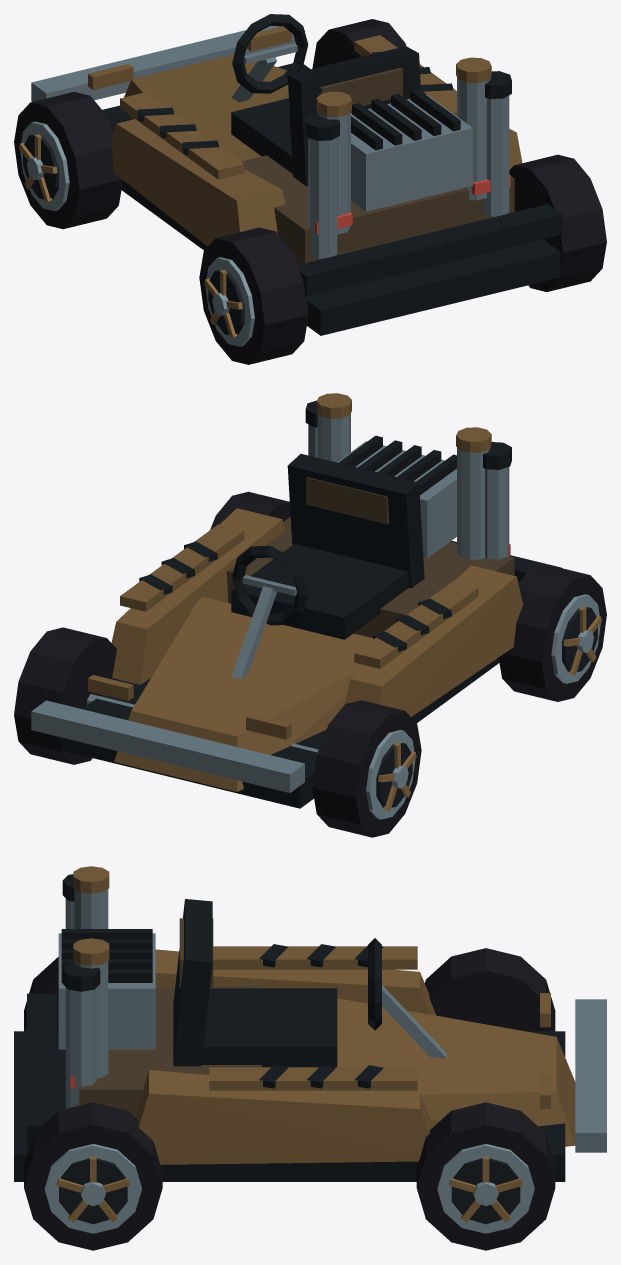
The model's file is kart.glb.
3 views of the same model, one above another, from view 1: azimuth 30°, elevation 25°; view 2: azimuth 150°, elevation 25°; view 3: azimuth 270°, elevation 25° (orthographic). The views are drawn at different scales.
Parts seen in each view (by area): view 1: chassis, wheel-rear-left, wheel-front-left, wheel-rear-right, wheel-front-right; view 2: chassis, wheel-front-left, wheel-rear-left, wheel-front-right, wheel-rear-right; view 3: chassis, wheel-front-right, wheel-rear-right, wheel-front-left, wheel-rear-left.
Part boxes in pixels (box(x1,y1,x2,y2)): chassis: box(31, 14, 562, 335); wheel-rear-left: box(199, 227, 308, 364); wheel-front-left: box(14, 92, 122, 229); wheel-rear-right: box(509, 154, 606, 291); wheel-front-right: box(312, 19, 406, 68); chassis: box(31, 393, 562, 808); wheel-front-left: box(312, 700, 421, 837); wheel-rear-left: box(498, 564, 606, 701); wheel-front-right: box(14, 627, 120, 764); wheel-rear-right: box(210, 491, 290, 529); chassis: box(14, 866, 606, 1181); wheel-front-right: box(416, 1102, 555, 1250); wheel-rear-right: box(24, 1102, 162, 1250); wheel-front-left: box(425, 948, 555, 1031); wheel-rear-left: box(24, 957, 58, 1031).
Size of the model in its own units: 2.28 by 1.4 by 2.99.
